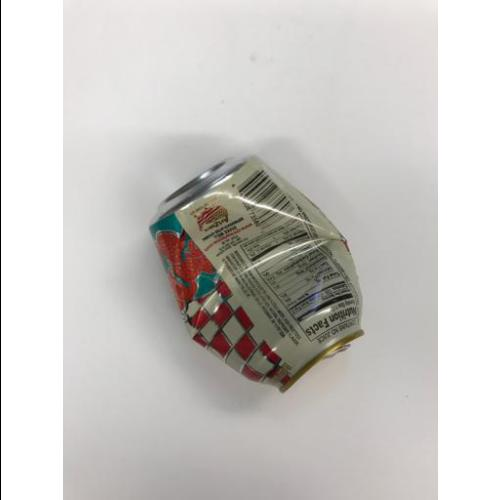metal: (152, 161, 363, 392)
